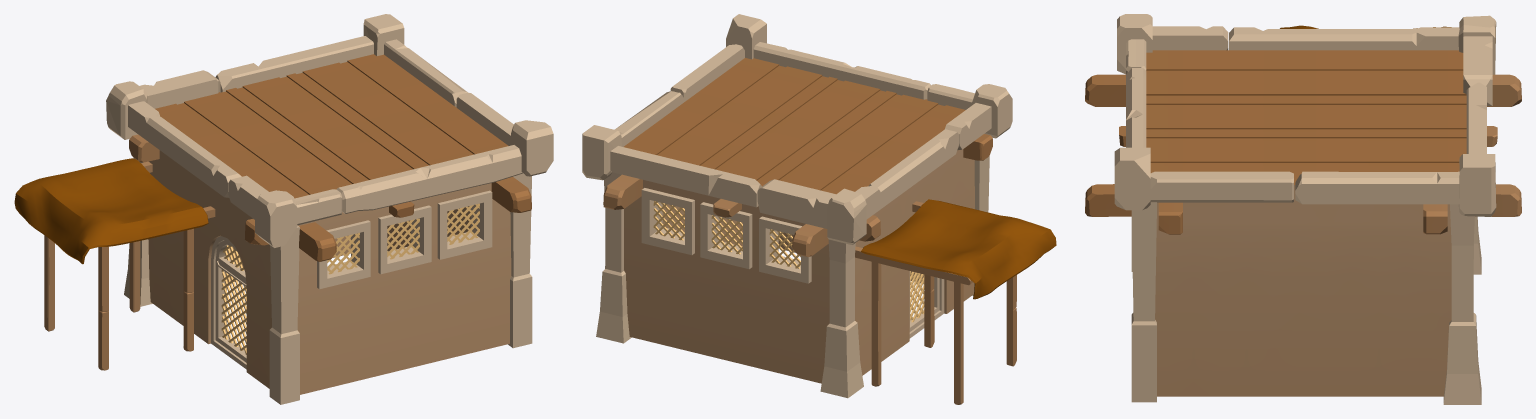
File: Building01.fbx
3 renders of one model, left to right at view 1: azimuth 30°, elevation 25°; view 2: azimuth 150°, elevation 25°; view 3: azimuth 270°, elevation 25°, orthographic. The views are drawn at different scales.
Visible parts, largest first — view 1: Building01; view 2: Building01; view 3: Building01.
Boxes of the visible parts, left/top/right/bottom form: Building01: left=14, top=14, right=553, bottom=404; Building01: left=582, top=14, right=1056, bottom=404; Building01: left=1085, top=14, right=1521, bottom=404.
Size of the model in its own units: 6.17 by 5.07 by 3.2.
